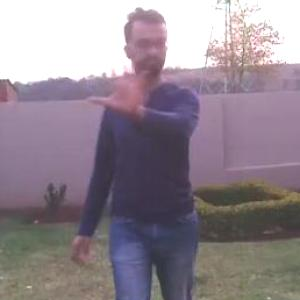follow_hand: (85, 49, 158, 117)
